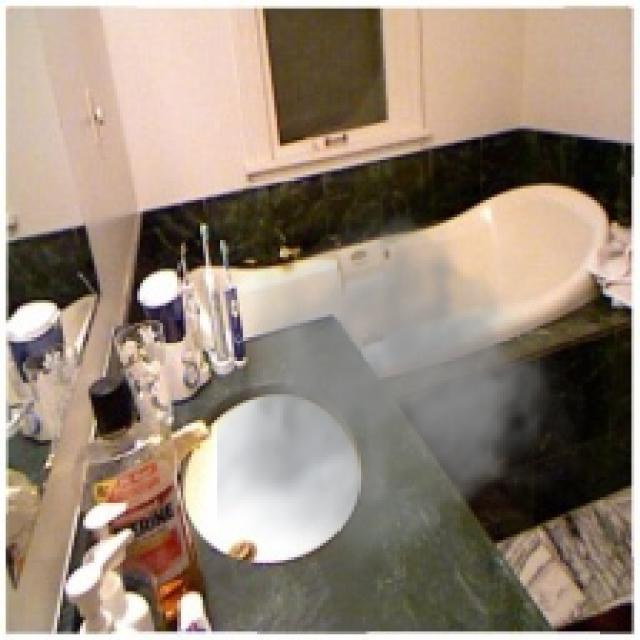smoke: (217, 197, 589, 586)
